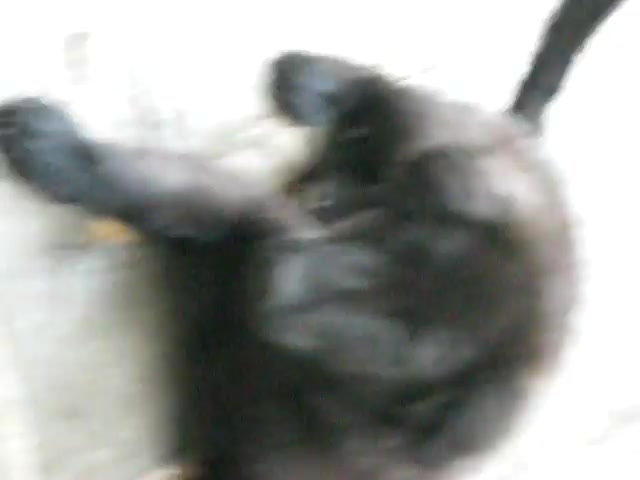dog: (1, 1, 630, 480)
